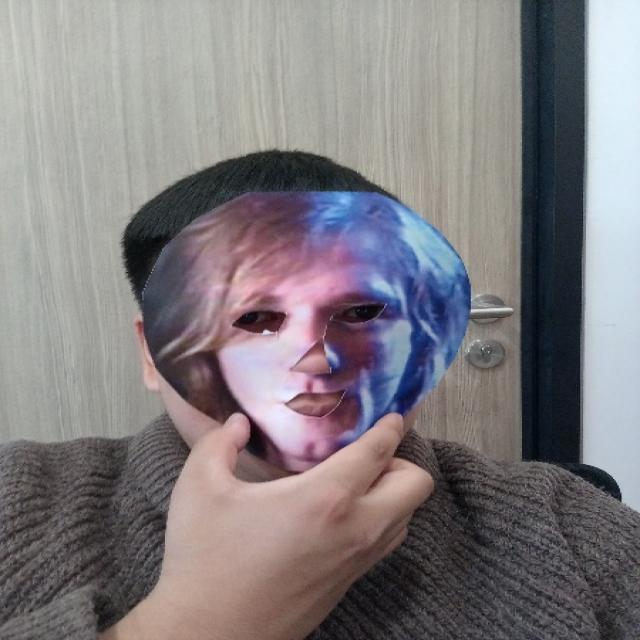mask: (138, 190, 474, 470)
